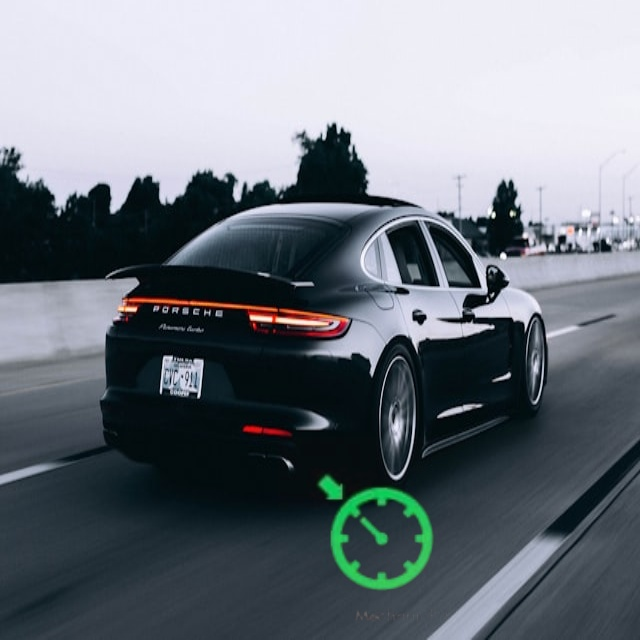symbol: (278, 437, 473, 632)
